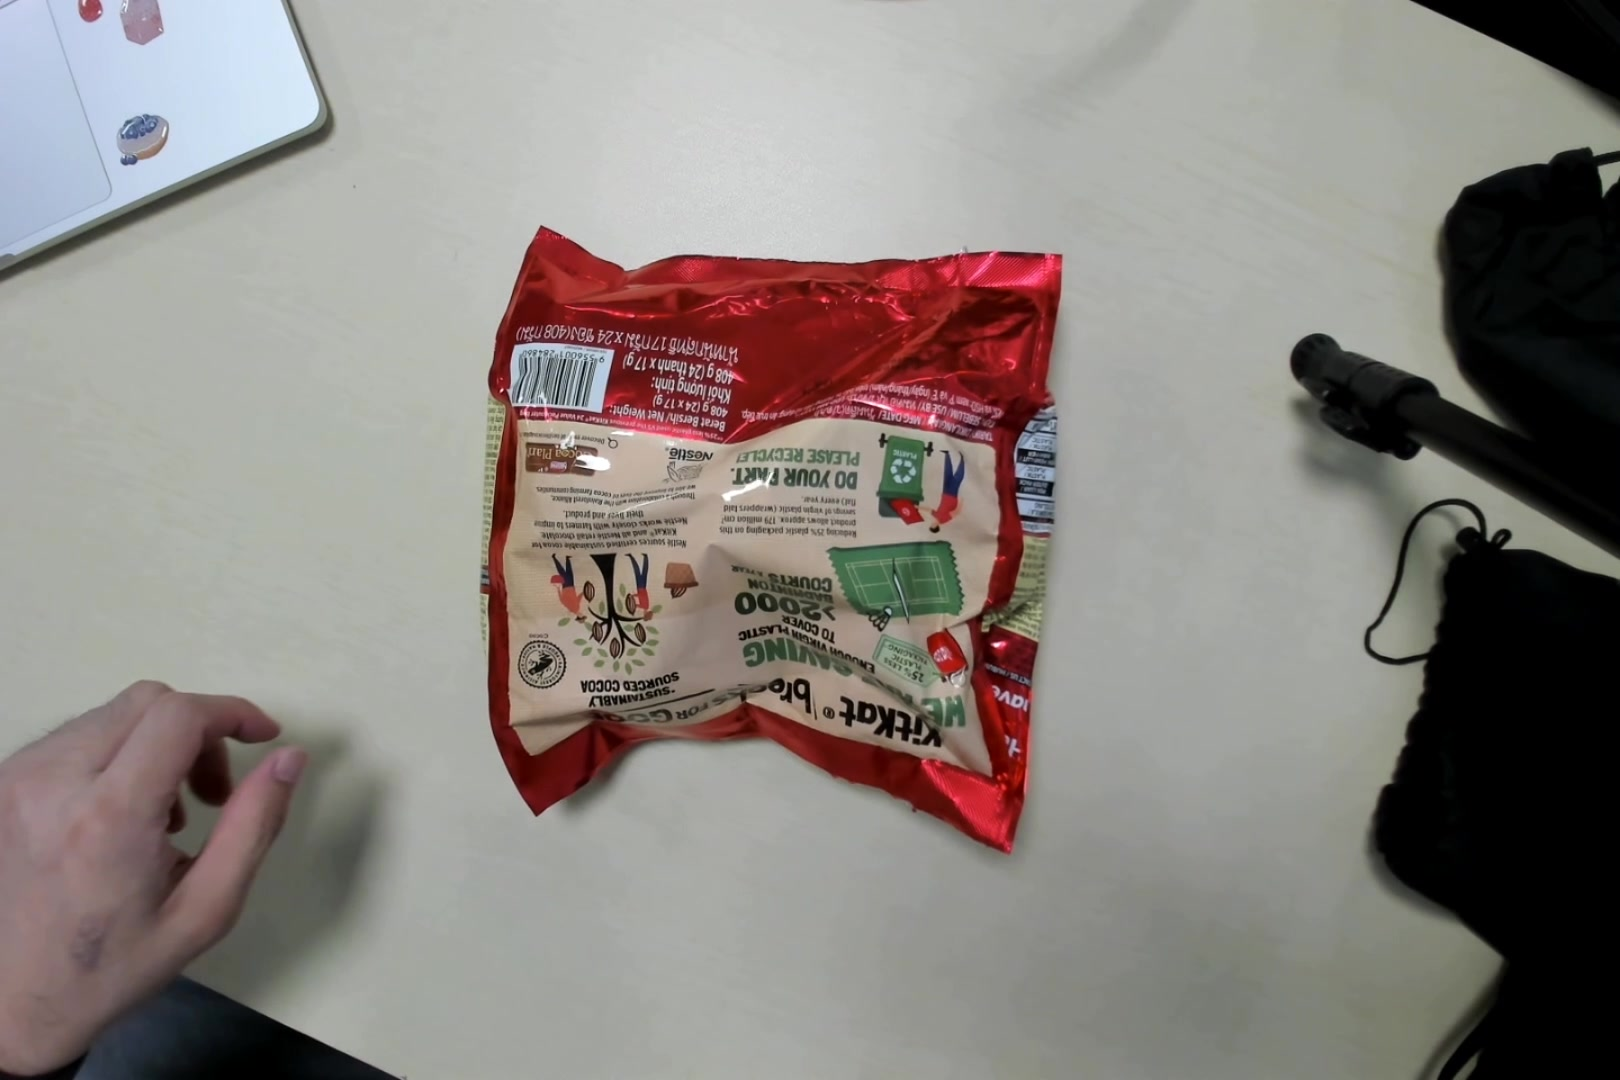SweetsChocolatesOthers_400-499g_Halal_NonHealthy: (483, 209, 1066, 858)
